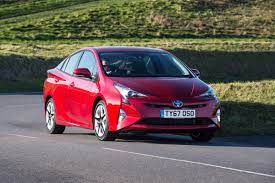Toyota: (42, 46, 221, 141)
